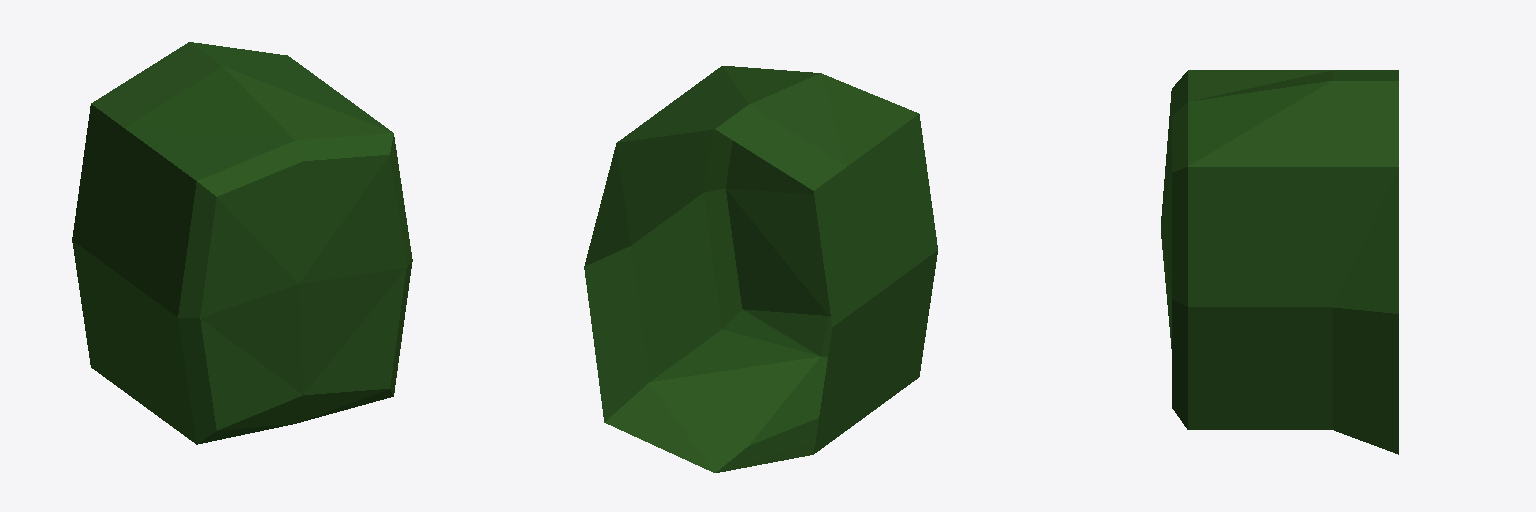
File: rock4.obj
3 renders of one model, left to right at view 1: azimuth 30°, elevation 25°; view 2: azimuth 150°, elevation 25°; view 3: azimuth 270°, elevation 25°, orthographic.
Visible parts, largest first — view 1: Rock4; view 2: Rock4; view 3: Rock4.
Part boxes in pixels (bbox=[...]): Rock4: bbox=[72, 42, 412, 444]; Rock4: bbox=[584, 66, 937, 472]; Rock4: bbox=[1161, 70, 1398, 454].
Bounding box in the file's own units: 1.26 × 1.67 × 1.05.